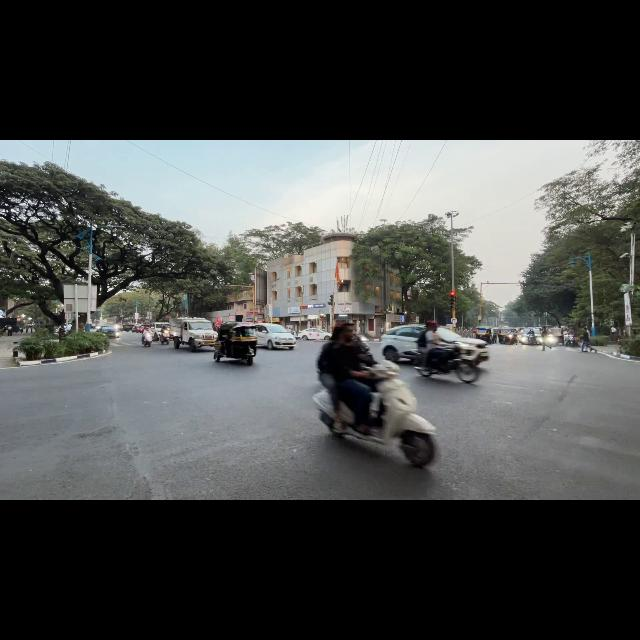car: (437, 327, 488, 362), (256, 323, 295, 349), (298, 328, 331, 339), (149, 322, 169, 340), (519, 328, 541, 344), (98, 325, 120, 338), (131, 325, 145, 332), (122, 324, 134, 331)
motorcycle: (313, 361, 436, 467), (415, 343, 480, 383), (564, 335, 578, 347), (158, 330, 170, 344), (142, 332, 152, 346), (504, 333, 516, 344), (527, 334, 537, 344)
truck: (170, 318, 217, 351)
